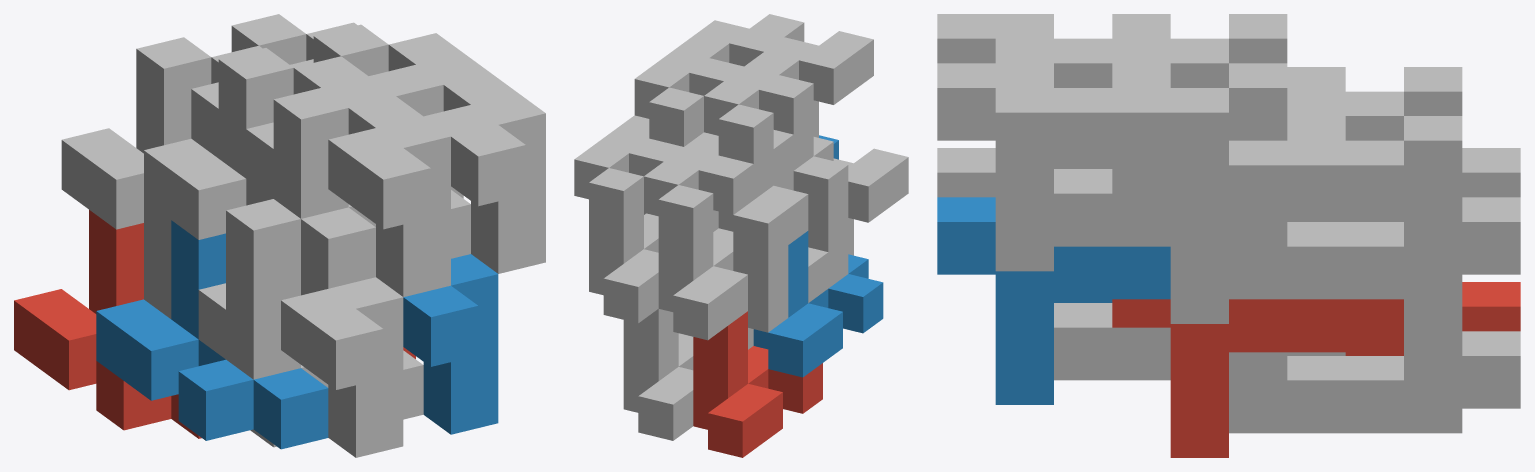
File: tiling.obj
3 renders of one model, left to right at view 1: azimuth 30°, elevation 25°; view 2: azimuth 150°, elevation 25°; view 3: azimuth 270°, elevation 25°, orthographic. The views are drawn at different scales.
Visible parts, largest first — view 1: copy_2_domain_4, copy_1_domain_4, copy_1_domain_2, copy_2_domain_8, copy_2_domain_2, copy_1_domain_3, copy_1_domain_1, copy_2_domain_6, copy_2_domain_3, copy_2_domain_1, copy_1_domain_8, copy_1_domain_7 (+2 smaller); view 2: copy_1_domain_3, copy_1_domain_4, copy_1_domain_1, copy_2_domain_4, copy_1_domain_7, copy_1_domain_2, copy_1_domain_5, copy_2_domain_8, copy_2_domain_3, copy_2_domain_2, copy_2_domain_7, copy_2_domain_1 (+1 smaller); view 3: copy_2_domain_8, copy_1_domain_7, copy_2_domain_7, copy_1_domain_5, copy_2_domain_5, copy_2_domain_6, copy_2_domain_4, copy_1_domain_8, copy_1_domain_6, copy_1_domain_3, copy_2_domain_3, copy_1_domain_1 (+2 smaller).
Boxes of the visible parts, box(x1,y1,x2,y2) form: copy_2_domain_4: box(273, 56, 450, 296); copy_1_domain_4: box(144, 48, 375, 288); copy_1_domain_2: box(96, 220, 328, 449); copy_2_domain_8: box(369, 33, 545, 273); copy_2_domain_2: box(226, 260, 403, 457); copy_1_domain_3: box(61, 37, 211, 269); copy_1_domain_1: box(14, 210, 201, 438); copy_2_domain_6: box(403, 254, 498, 434); copy_2_domain_3: box(191, 45, 348, 218); copy_2_domain_1: box(144, 250, 300, 447); copy_1_domain_8: box(313, 24, 470, 258); copy_1_domain_7: box(231, 14, 306, 64); copy_1_domain_3: box(658, 185, 788, 340); copy_1_domain_4: box(718, 104, 848, 259); copy_1_domain_1: box(693, 311, 822, 457); copy_2_domain_4: box(704, 31, 873, 137); copy_1_domain_7: box(589, 168, 658, 323); copy_1_domain_2: box(753, 231, 883, 377); copy_1_domain_5: box(623, 308, 693, 440); copy_2_domain_8: box(634, 14, 804, 118); copy_2_domain_3: box(644, 120, 813, 216); copy_2_domain_2: box(808, 148, 908, 255); copy_2_domain_7: box(574, 115, 683, 214); copy_2_domain_1: box(748, 238, 848, 332); copy_2_domain_8: box(937, 63, 1228, 271); copy_1_domain_7: box(1229, 116, 1520, 299); copy_2_domain_7: box(1112, 116, 1403, 323); copy_1_domain_5: box(1229, 299, 1520, 433); copy_2_domain_5: box(1112, 299, 1403, 457); copy_2_domain_6: box(937, 197, 1170, 404); copy_2_domain_4: box(937, 14, 1228, 87); copy_1_domain_8: box(1054, 63, 1345, 246); copy_1_domain_6: box(1054, 303, 1345, 380); copy_1_domain_3: box(1345, 67, 1520, 221); copy_2_domain_3: box(1287, 67, 1403, 140); copy_1_domain_1: box(1345, 282, 1520, 355).
Bounding box in the file's own units: 6 × 7 × 10.
